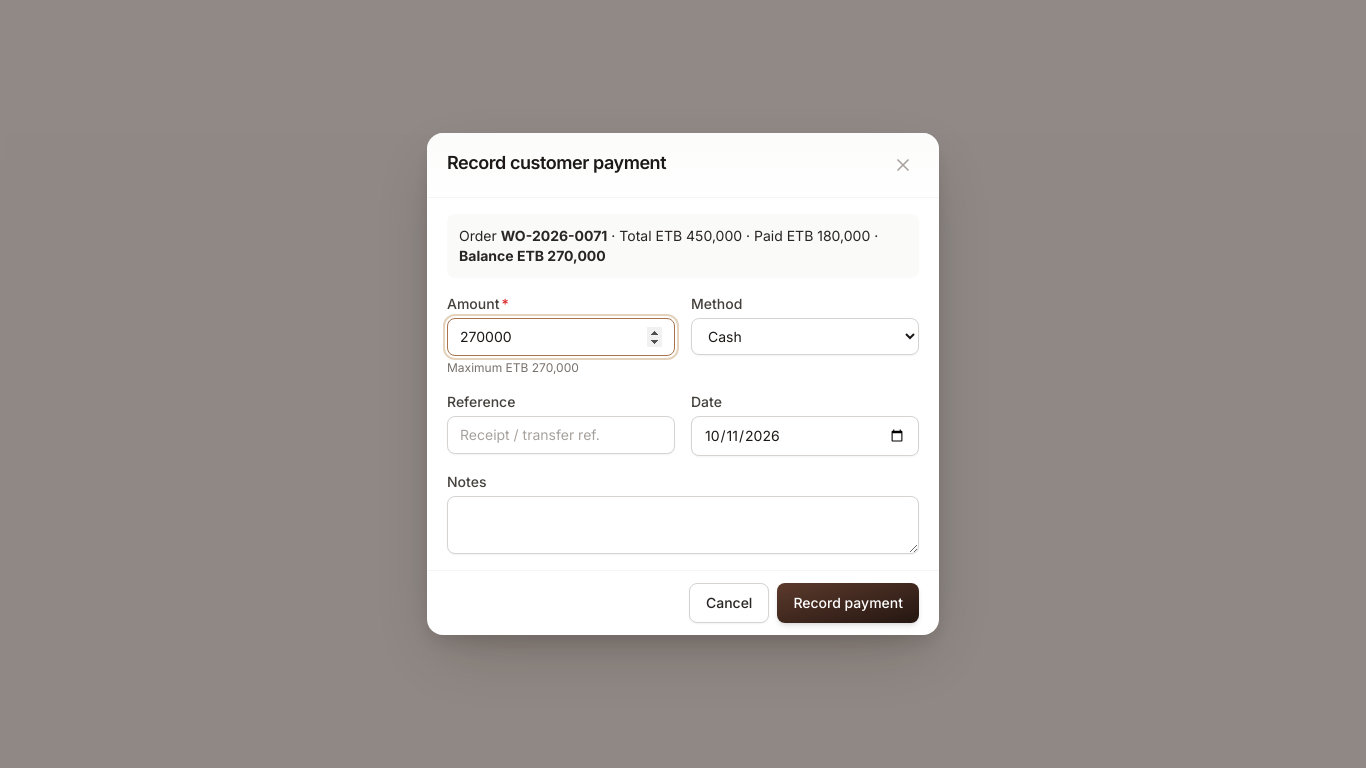
Test: Accountant workflow: recording a payment › rejects payments above the remaining balance
This screenshot has width=1366, height=768.
Replace the text in the number field labelled "Amount*" with "300000" at (561, 337), box top-left (447, 318), bottom-right (675, 356)
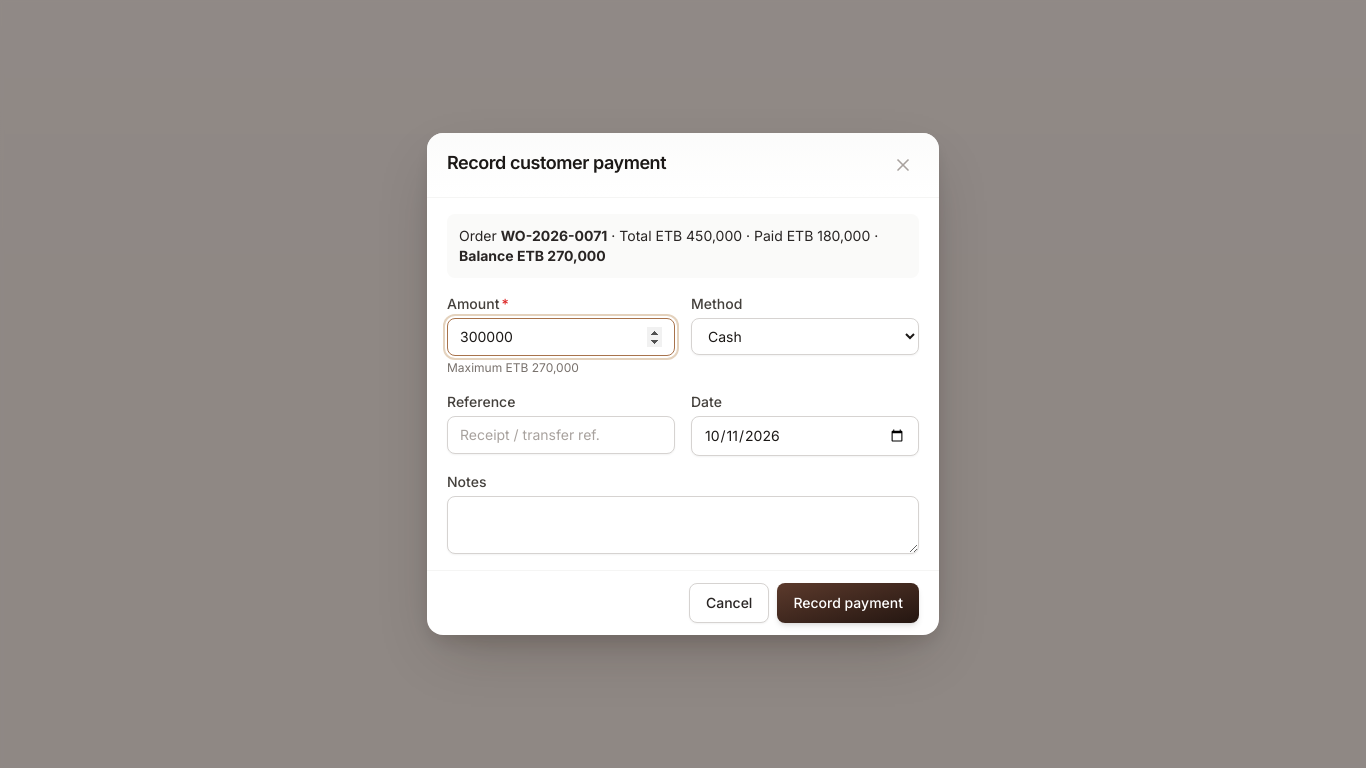
Click the button "Record payment" at (848, 603), box top-left (777, 583), bottom-right (919, 623)
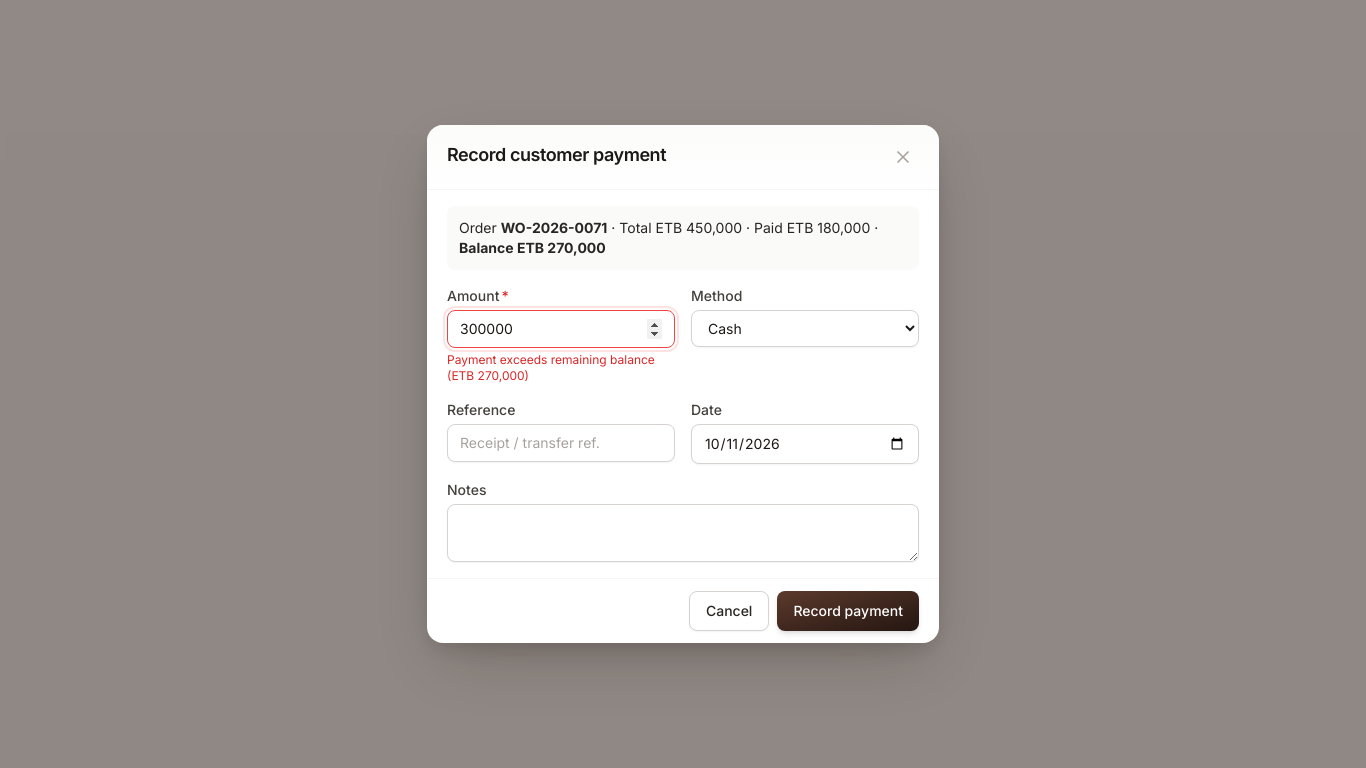
Now the text "Payment exceeds remaining balance (ETB 270,000)" is shown, box top-left (447, 352), bottom-right (675, 384)
